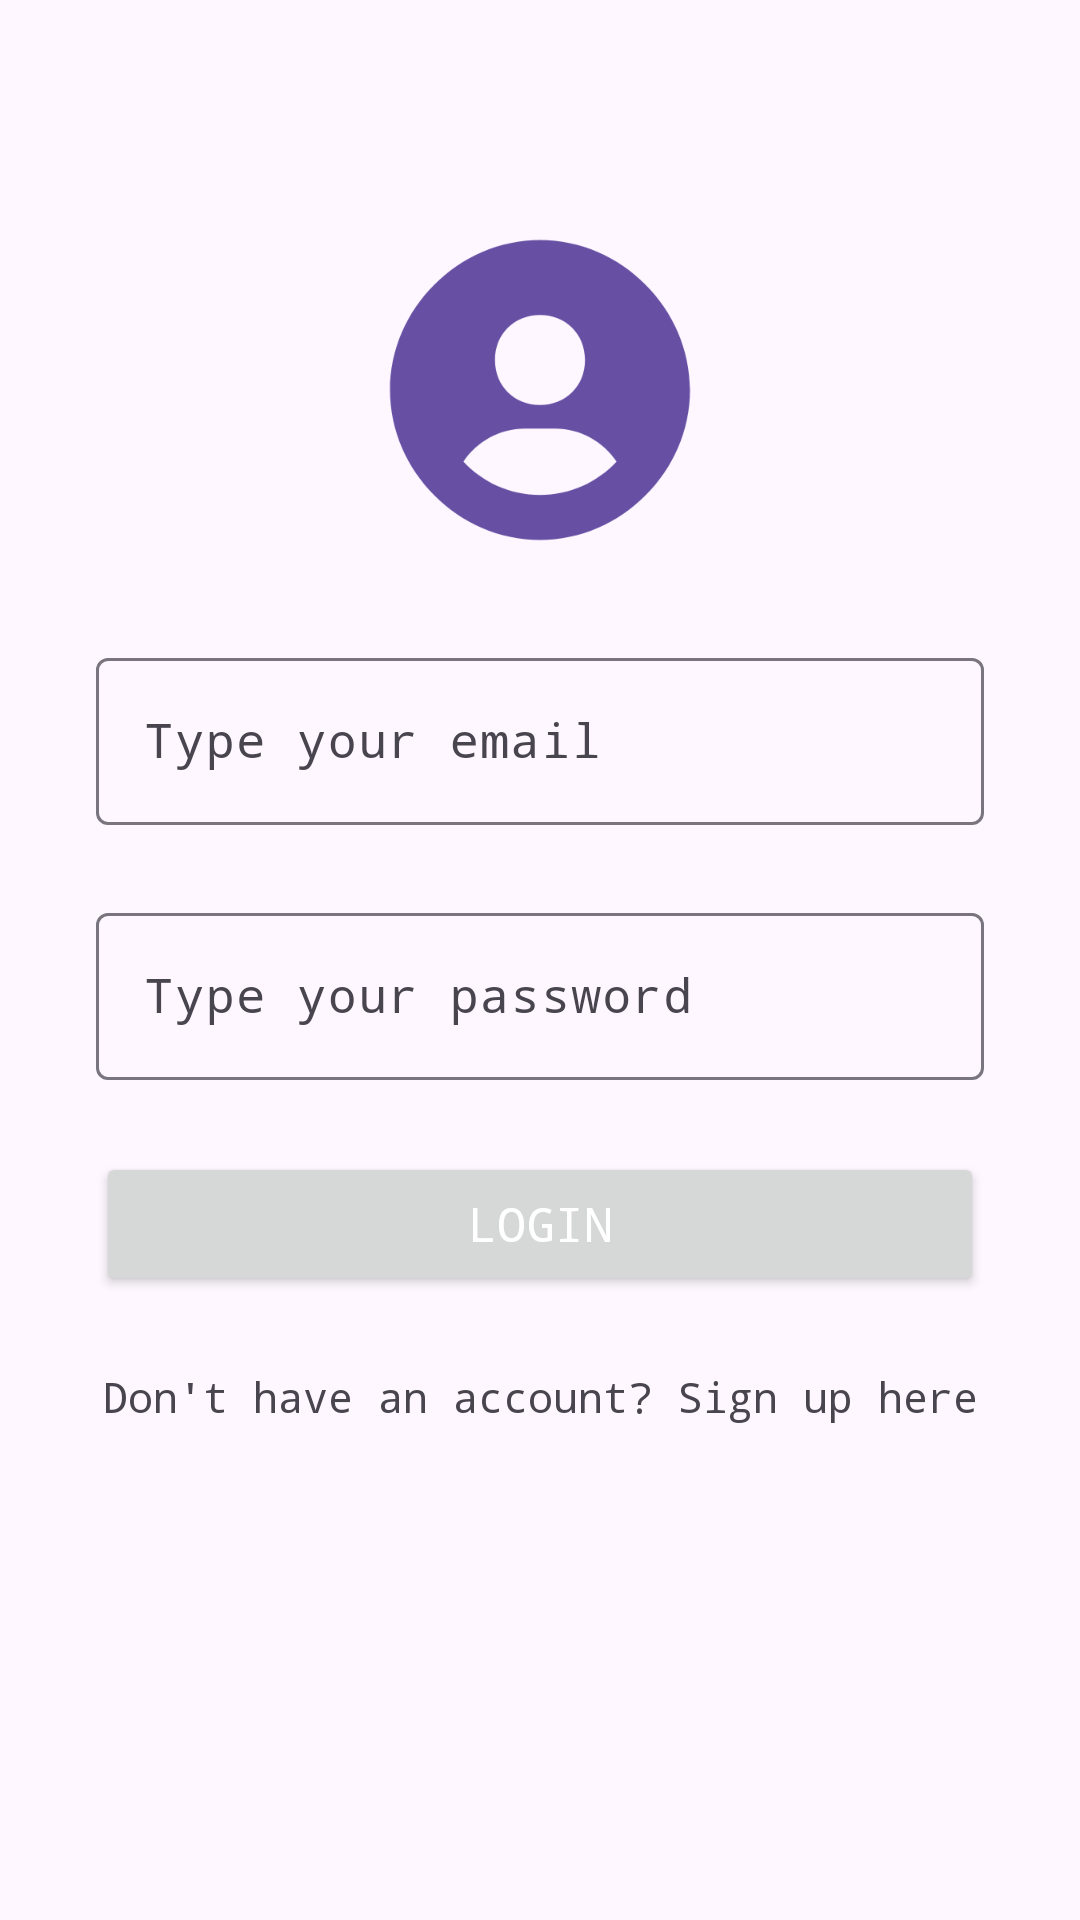

Icon bounding boxes for this 1080×1920 phone screenshot, format (x1, y1, x2, y2):
usercircle: (389, 239, 691, 541)
